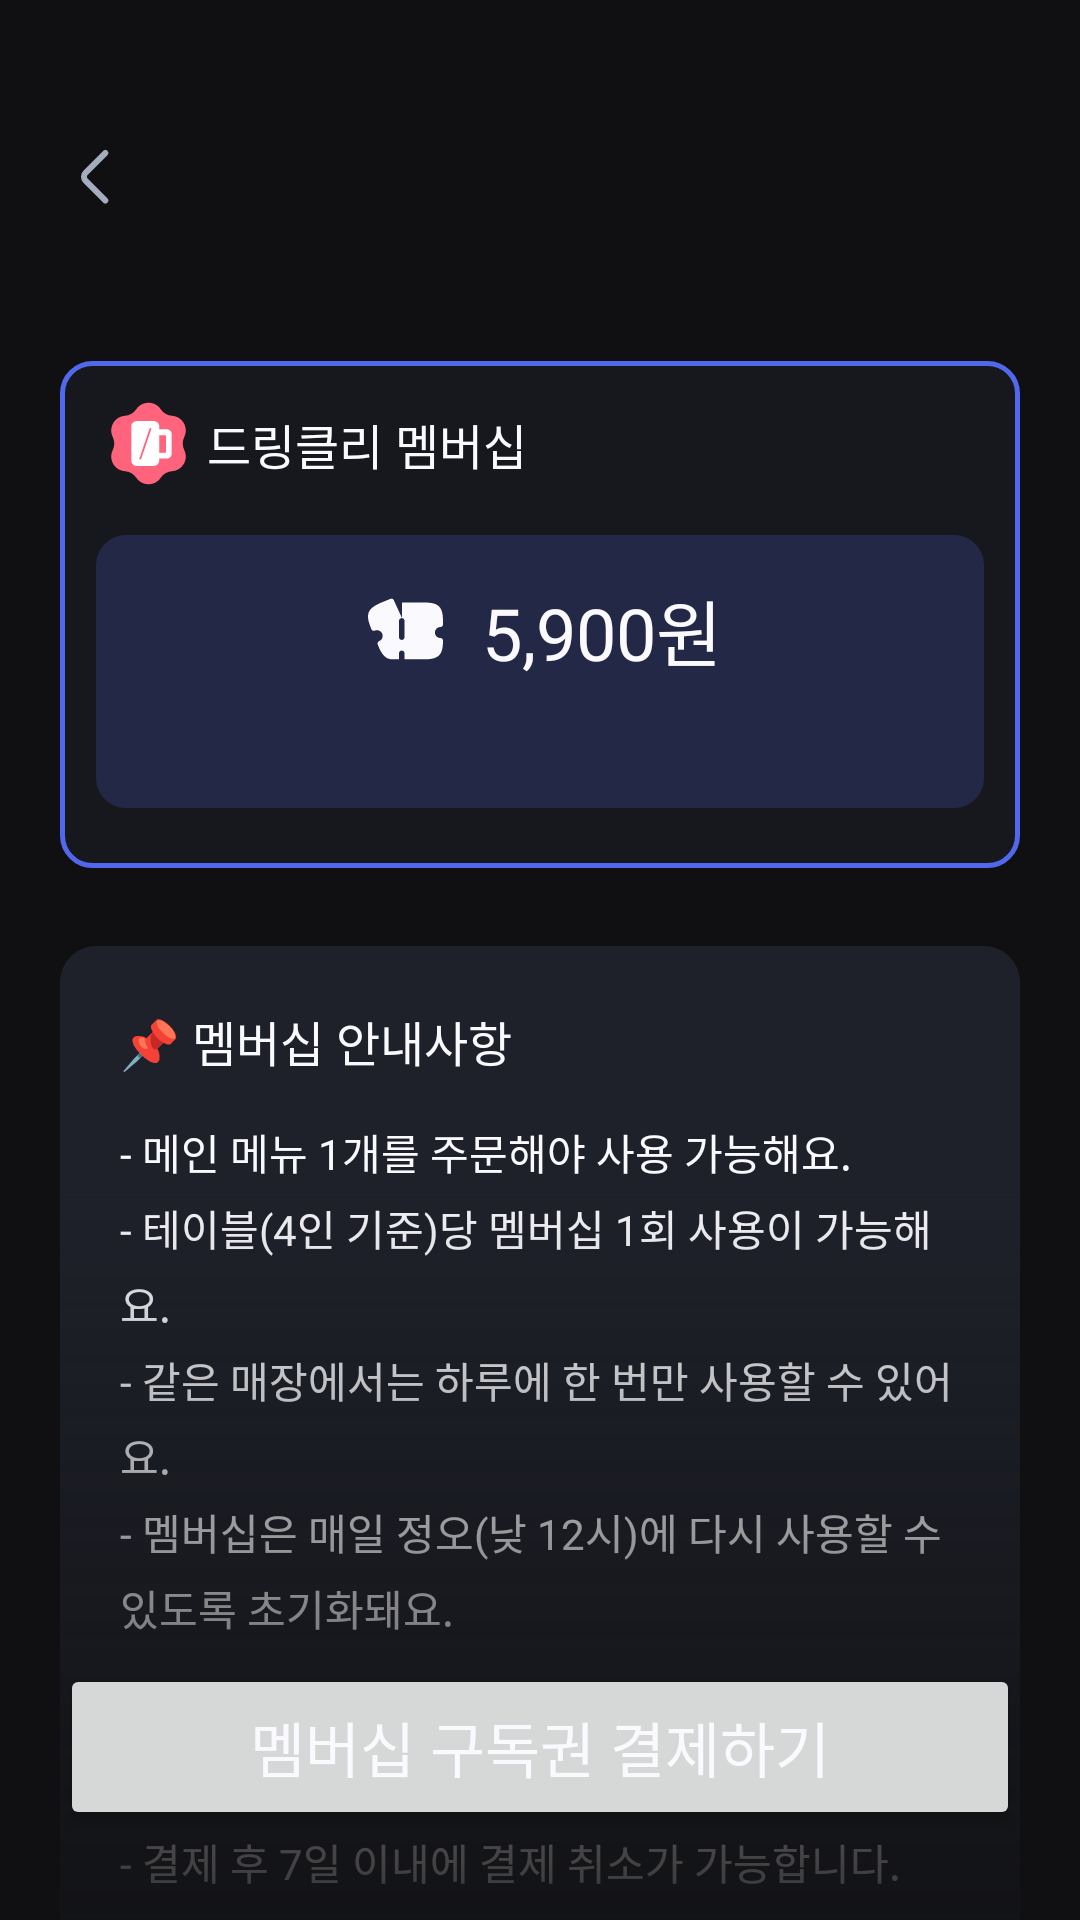

Icons on this 1080px×1920px Android screen, each with the point to tap as (x,y):
arrow left: (95,177)
subscribe bedge: (148,443)
ticket: (405,629)
